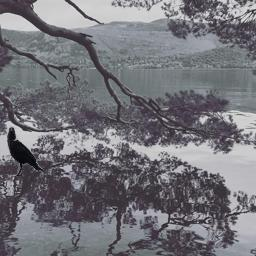Crow: (6, 126, 44, 176)
